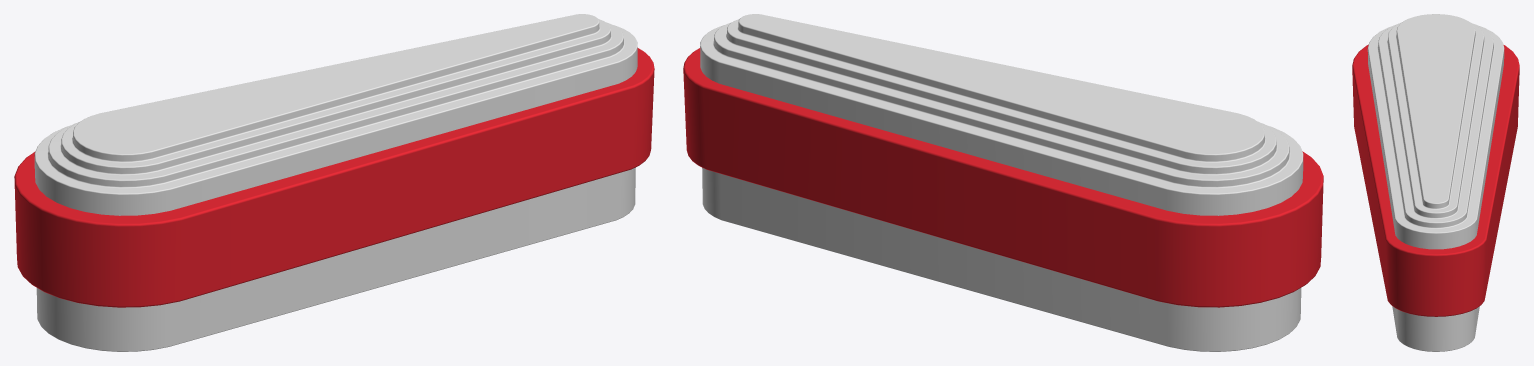
The model's file is Flipper, Gottlieb, Variant 2 (3in) - Hipoly.fbx.
3 renders of one model, left to right at view 1: azimuth 30°, elevation 25°; view 2: azimuth 150°, elevation 25°; view 3: azimuth 270°, elevation 25°, orthographic. The views are drawn at different scales.
Visible parts, largest first — view 1: Flipper, Gottlieb, Variant 2 (3"); view 2: Flipper, Gottlieb, Variant 2 (3"); view 3: Flipper, Gottlieb, Variant 2 (3").
Boxes of the visible parts, left/top/right/bottom form: Flipper, Gottlieb, Variant 2 (3"): left=14, top=14, right=654, bottom=351; Flipper, Gottlieb, Variant 2 (3"): left=683, top=14, right=1323, bottom=351; Flipper, Gottlieb, Variant 2 (3"): left=1352, top=14, right=1519, bottom=351.
Size of the model in its own units: 8.24 by 2.34 by 2.58.
